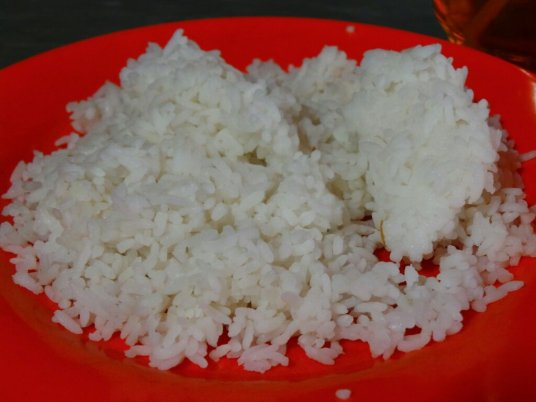Nasi Putih: (39, 45, 492, 374)
